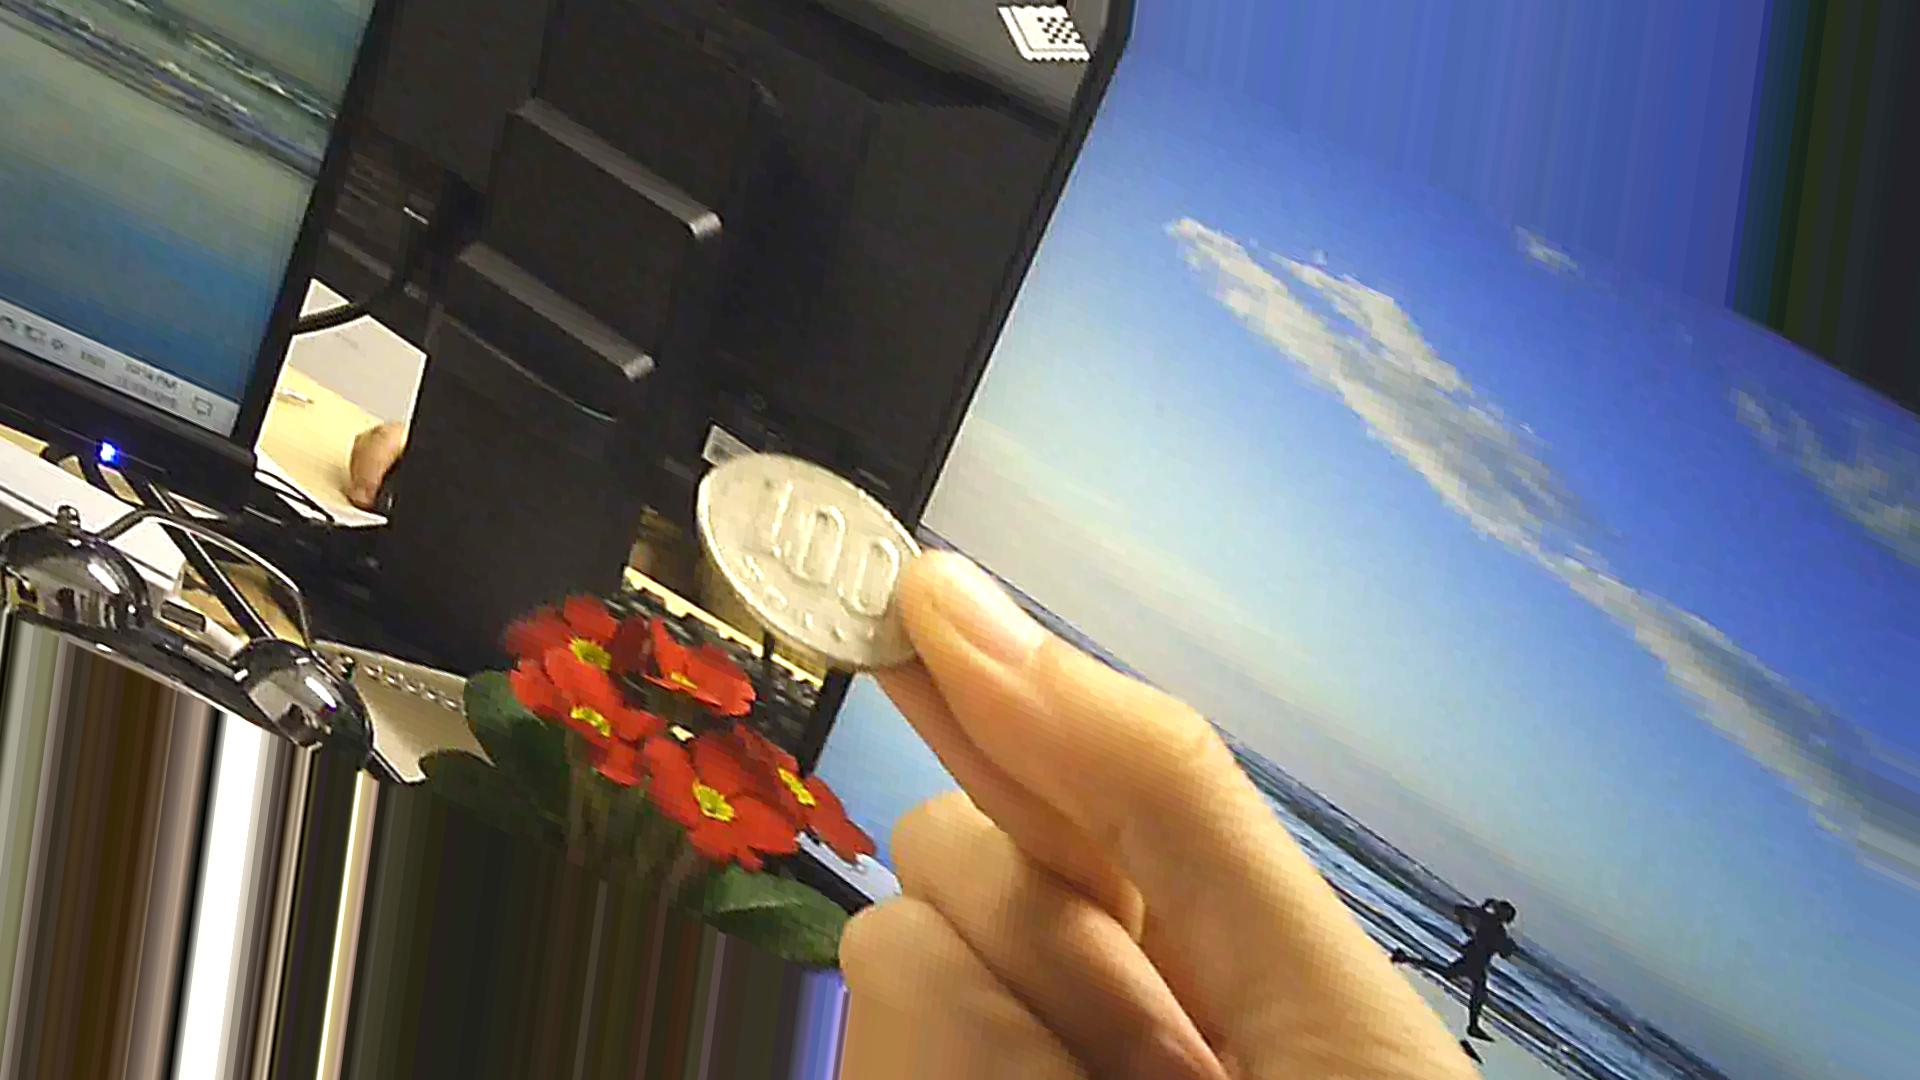100 Yen: (682, 434, 938, 691)
